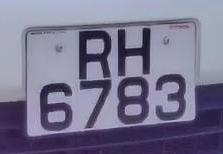3: (151, 69, 188, 126)
6: (34, 77, 77, 137)
7: (76, 75, 117, 133)
8: (114, 73, 154, 128)
H: (111, 21, 158, 81)
R: (68, 23, 119, 84)
